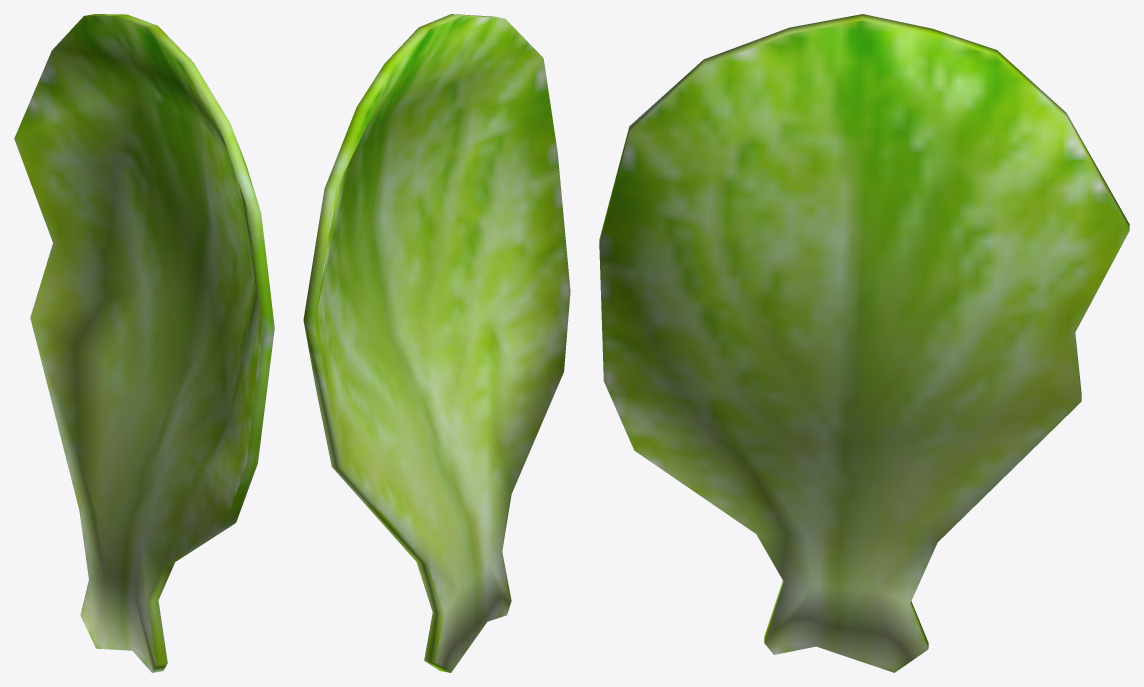
File: cabbage.fbx
3 renders of one model, left to right at view 1: azimuth 30°, elevation 25°; view 2: azimuth 150°, elevation 25°; view 3: azimuth 270°, elevation 25°, orthographic. The views are drawn at different scales.
Visible parts, largest first — view 1: cabbage; view 2: cabbage; view 3: cabbage.
Part boxes in pixels (x1,y1,x2,y2): cabbage: [14, 14, 274, 672]; cabbage: [303, 14, 570, 672]; cabbage: [599, 14, 1129, 672].
Size of the model in its own units: 2.54 by 14.22 by 10.17.
1 material, 1 textured.
